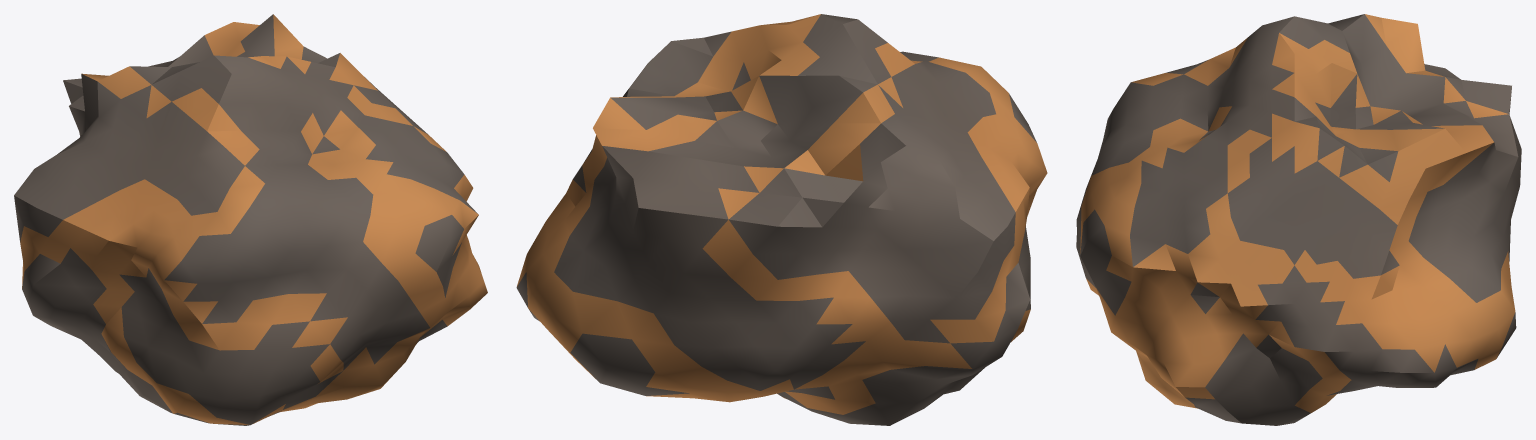
Rendered from asteroid_iron_01.glb.
The picture shows the model from 3 angles, left to right: view 1: azimuth 30°, elevation 25°; view 2: azimuth 150°, elevation 25°; view 3: azimuth 270°, elevation 25°; orthographic projection. The views are drawn at different scales.
Parts seen in each view (by area): view 1: asteroid_iron_01; view 2: asteroid_iron_01; view 3: asteroid_iron_01.
Part boxes in pixels (box(x1,y1,x2,y2)): asteroid_iron_01: box(14, 14, 487, 425); asteroid_iron_01: box(516, 14, 1047, 425); asteroid_iron_01: box(1076, 14, 1521, 425).
Bounding box in the file's own units: 2.33 × 1.91 × 2.15.
